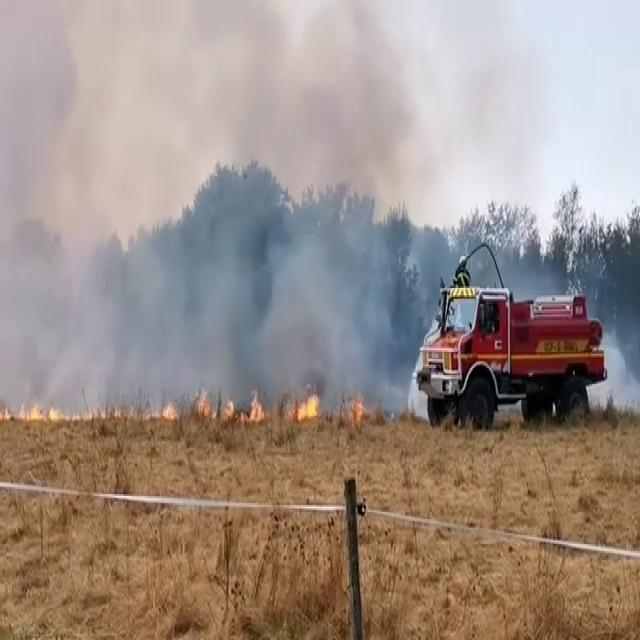Fire: (165, 380, 325, 432), (2, 395, 124, 423)
Smoke: (1, 31, 424, 435)
